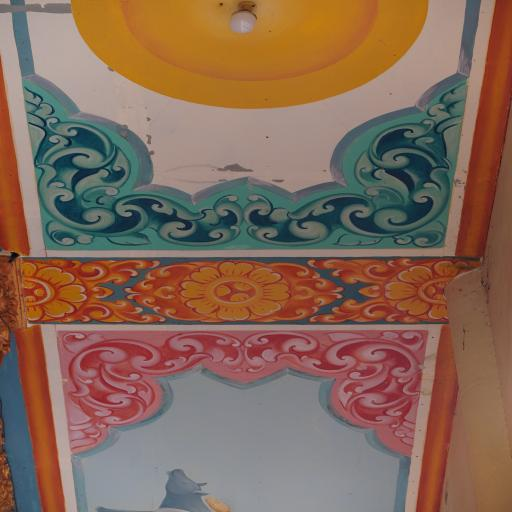hoa: (182, 261, 291, 321), (19, 260, 86, 322)
la: (20, 83, 244, 250), (250, 84, 469, 250), (55, 330, 248, 457), (246, 331, 428, 456), (386, 258, 478, 324), (128, 260, 216, 324), (276, 262, 345, 320), (49, 258, 160, 288), (310, 258, 442, 280), (70, 296, 166, 326), (320, 299, 417, 327)
